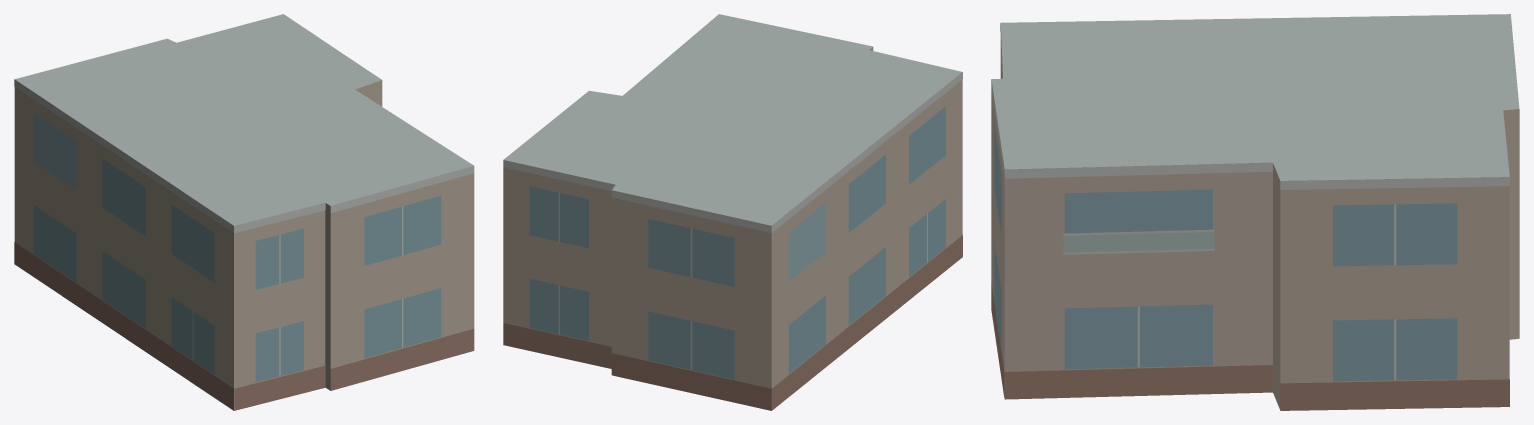
File: survey-upis-32638424.glb
The picture shows the model from 3 angles, left to right: view 1: azimuth 30°, elevation 25°; view 2: azimuth 150°, elevation 25°; view 3: azimuth 270°, elevation 25°; orthographic projection. The views are drawn at different scales.
Visible parts, largest first — view 1: survey-upis-32638424.tmp; view 2: survey-upis-32638424.tmp; view 3: survey-upis-32638424.tmp.
Boxes of the visible parts, <box> form: survey-upis-32638424.tmp: <box>14,14,474,410</box>; survey-upis-32638424.tmp: <box>503,14,962,410</box>; survey-upis-32638424.tmp: <box>991,14,1519,410</box>.
Size of the model in its own units: 9.51 by 6.1 by 12.71.
